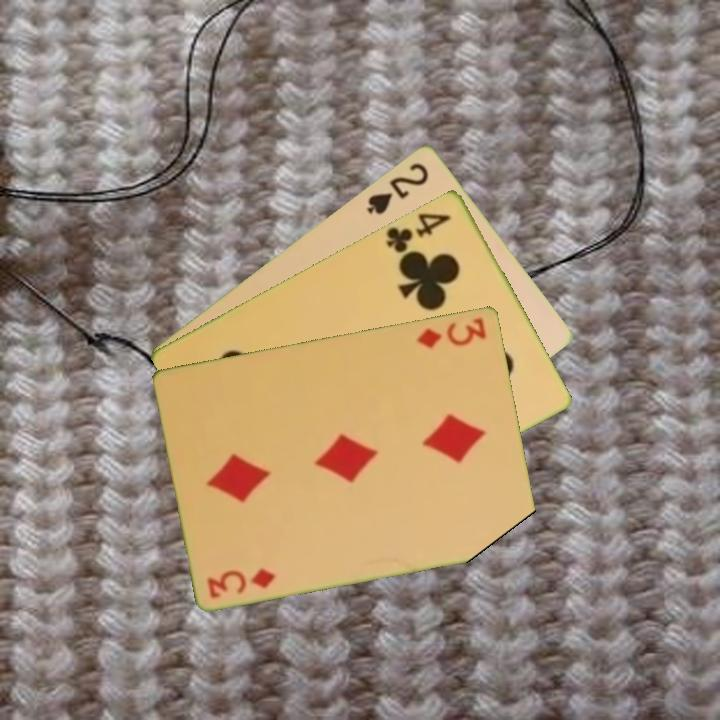2s: (363, 158, 432, 217)
3d: (413, 313, 490, 351), (204, 564, 278, 601)
4c: (382, 208, 454, 260)
